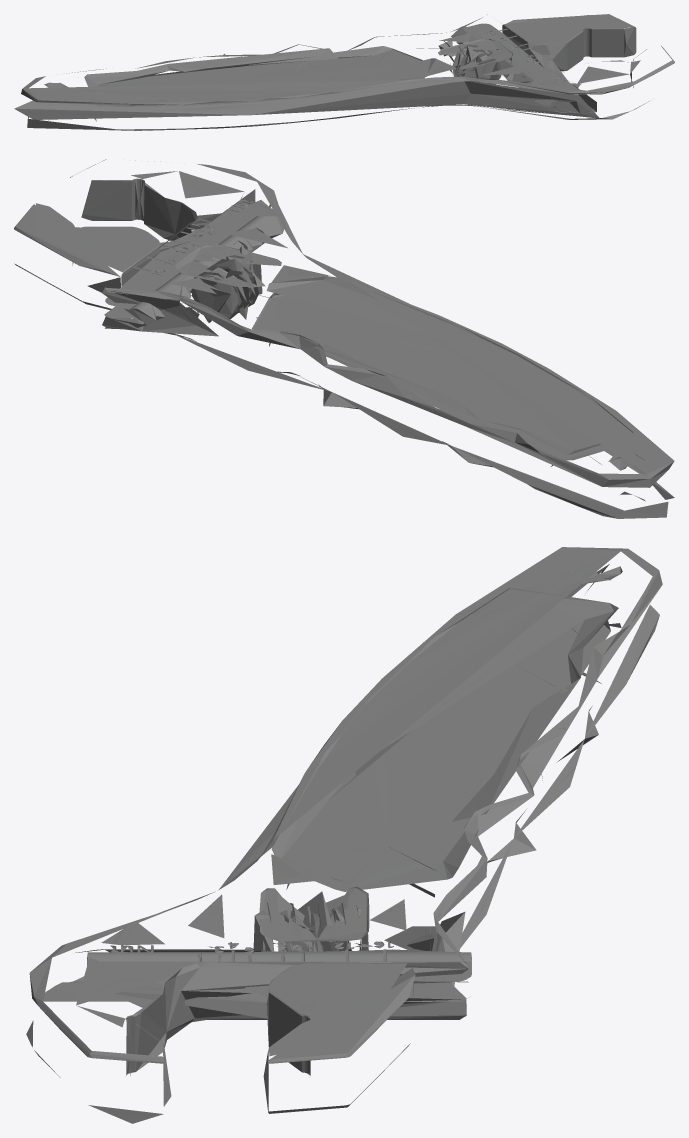
Rendered from serviceTool_wrench_hoseFitting_a01.glb.
3 renders of one model, top to bottom at view 1: azimuth 30°, elevation 25°; view 2: azimuth 150°, elevation 25°; view 3: azimuth 270°, elevation 25°, orthographic. The views are drawn at different scales.
Parts seen in each view (by area): view 1: geometry_0; view 2: geometry_0; view 3: geometry_0.
Part boxes in pixels (<box>): geometry_0: <box>14,14,674,130</box>; geometry_0: <box>14,159,674,518</box>; geometry_0: <box>26,547,662,1123</box>.
Size of the model in its own units: 0.42 by 0.0334 by 0.2155.
1 material, 1 textured.
